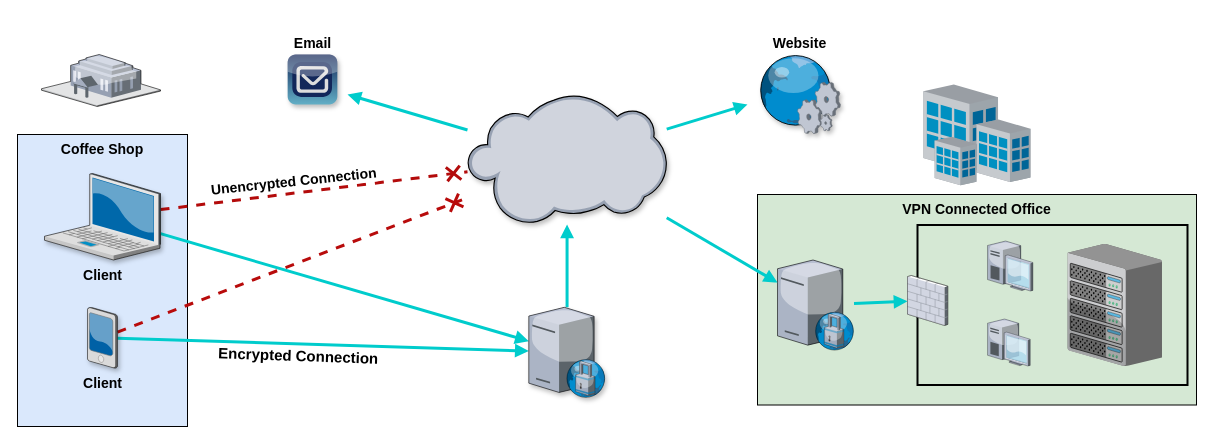
Some shapes in this 1214 by 444 pixel diagram are drawn without their labels. Here are the shapes that lost their labels. From the top down, the centre of each, then its label:
point (567, 160): Public Internet
point (815, 305): Office VPN Server
point (567, 353): VPN Server
